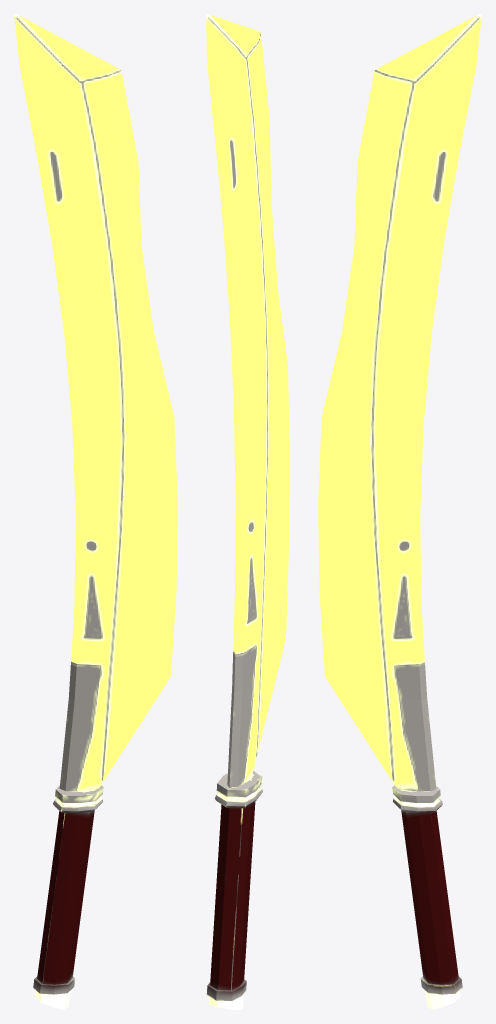
File: Lame.fbx
3 renders of one model, left to right at view 1: azimuth 90°, elevation 25°; view 2: azimuth 150°, elevation 25°; view 3: azimuth 270°, elevation 25°, orthographic.
Visible parts, largest first — view 1: Lame.001; view 2: Lame.001; view 3: Lame.001.
Boxes of the visible parts, box(x1,y1,x2,y2) form: Lame.001: box(14, 14, 177, 1009); Lame.001: box(206, 14, 289, 1009); Lame.001: box(318, 14, 481, 1009).
Size of the model in its own units: 22.58 by 613 by 91.66.
Materials: 1 (1 with a texture image).
